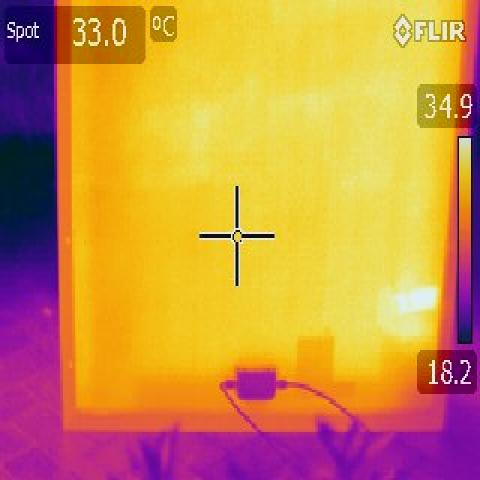fault: (396, 284, 438, 316)
